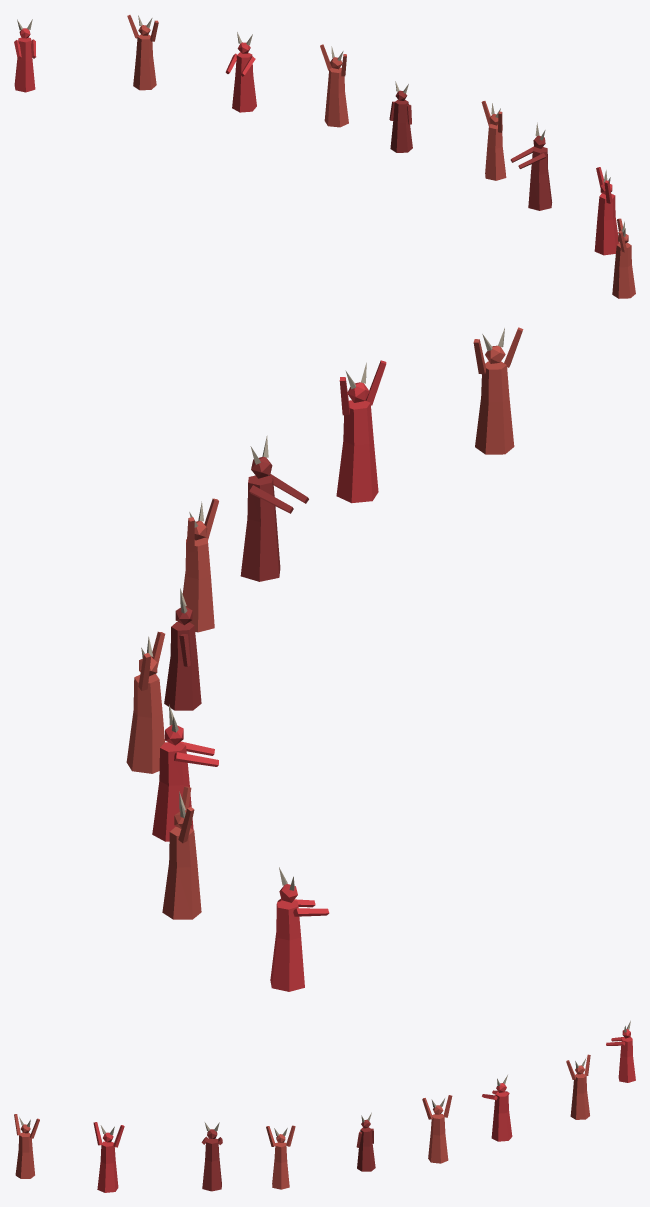
Rendered from Stands_5_1_0_Ice.obj.
The picture shows the model from 3 angles, top to bottom: view 1: azimuth 30°, elevation 25°; view 2: azimuth 150°, elevation 25°; view 3: azimuth 270°, elevation 25°; orthographic projection. The views are drawn at different scales.
Visible parts, largest first — view 1: Stands_5_1_0_Ice; view 2: Stands_5_1_0_Ice; view 3: Stands_5_1_0_Ice.
Part boxes in pixels (x1=…): Stands_5_1_0_Ice: x1=14, y1=15, x2=635, y2=298; Stands_5_1_0_Ice: x1=126, y1=327, x2=523, y2=991; Stands_5_1_0_Ice: x1=14, y1=1020, x2=635, y2=1192.
Size of the model in its own units: 15.33 by 3.91 by 33.38.
Materials: 1 (1 with a texture image).
